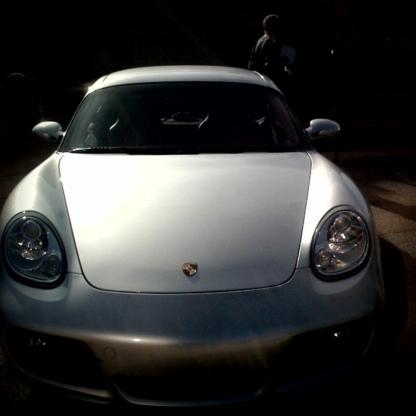Car: (1, 66, 385, 416)
